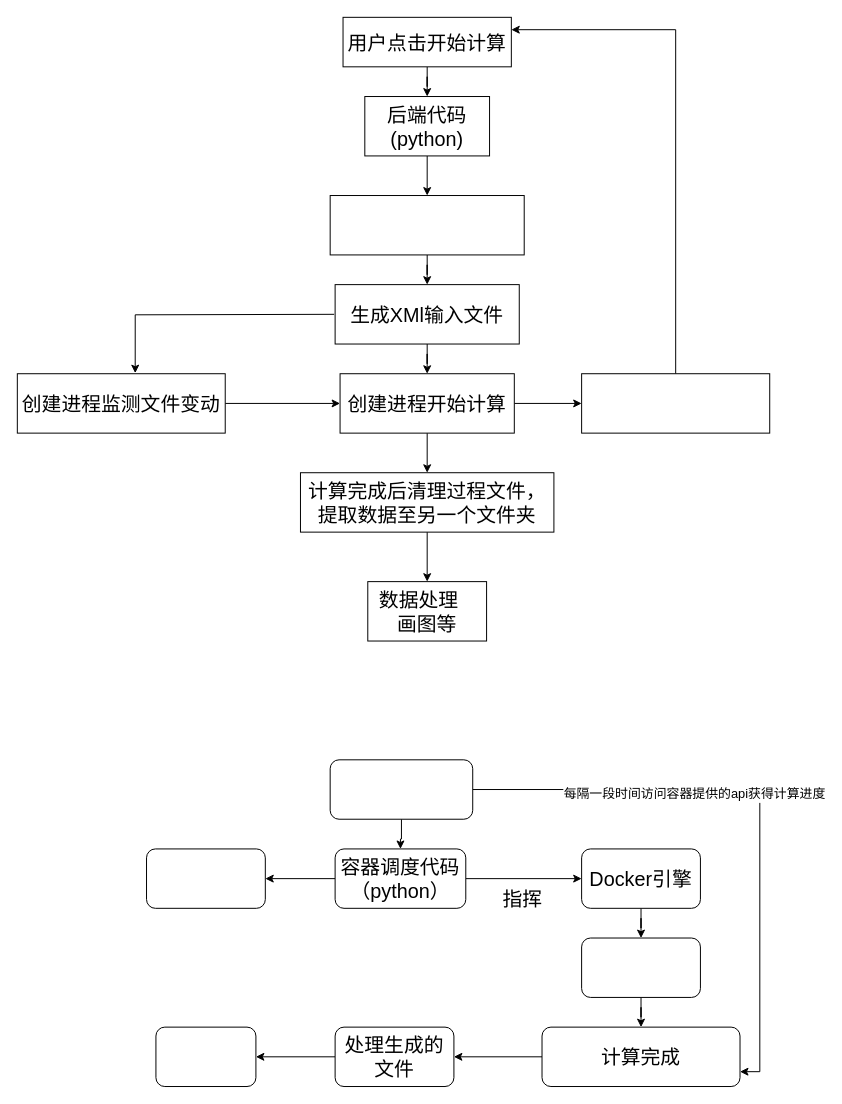
Image size: 842x1104. Some labels were removed from this diagram. The shapes that lost their labels are listed below. From the top down, each one's box as (x1, y1, x2, y2) in pixels, then its label:
(329, 195, 524, 255): 新建工作文件夹并移动文件必要文件
(581, 373, 770, 433): 生成一个websocket连接返回给用户
(329, 759, 473, 819): 用户开始计算
(146, 848, 265, 908): 给其他用户提供服务
(581, 937, 700, 997): 创建容器
(155, 1026, 256, 1087): 处理完成销毁容器
